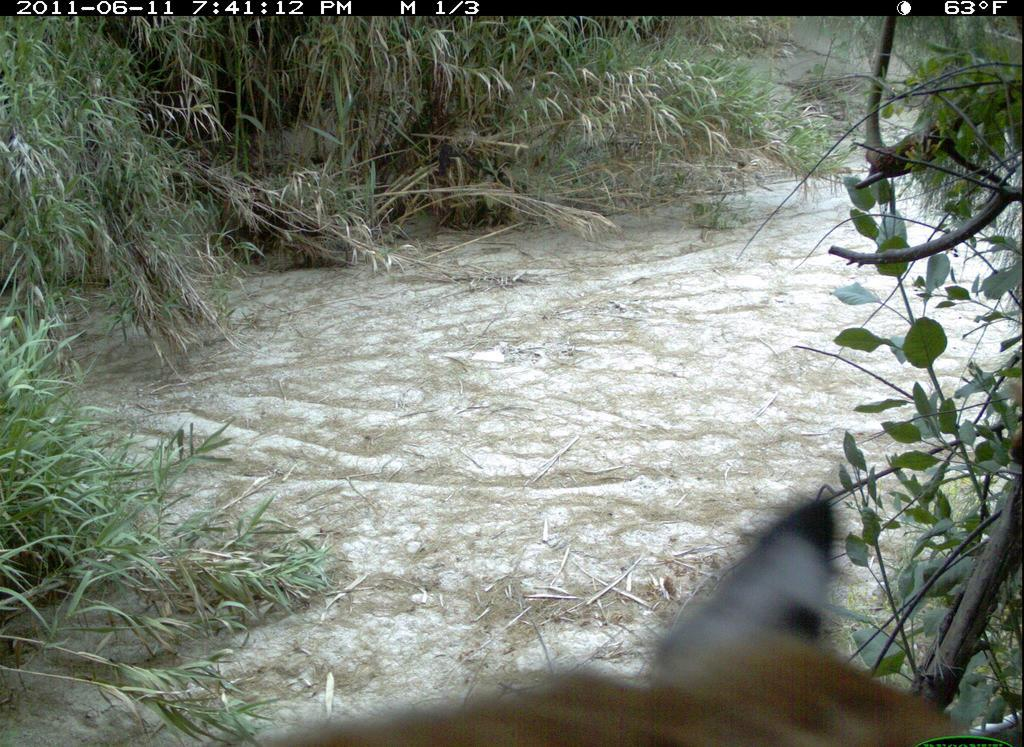bobcat: (175, 506, 980, 747)
